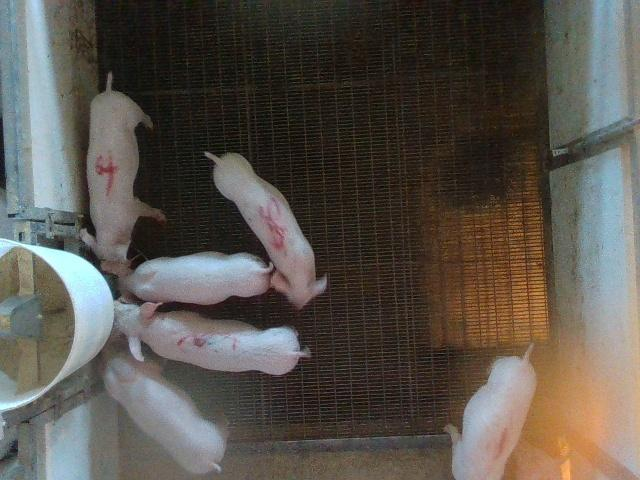pig-1: (449, 351, 536, 479)
pig-3: (114, 301, 310, 374)
pig-4: (81, 74, 165, 269)
pig-5: (205, 151, 326, 308)
